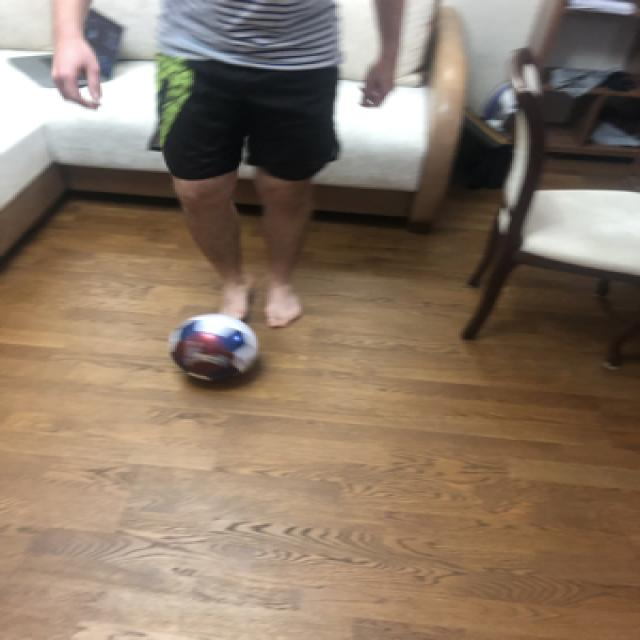soccer_ball: (162, 314, 256, 382)
